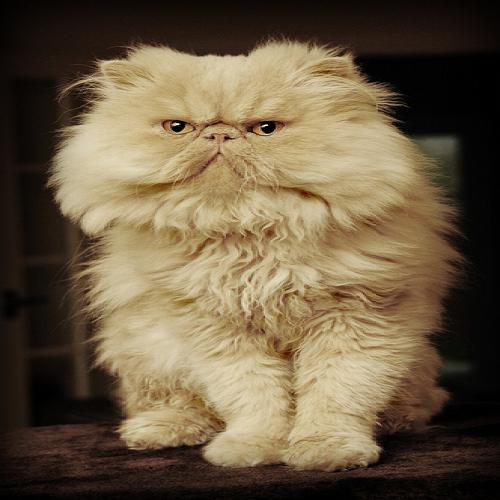persian: (64, 38, 390, 233)
